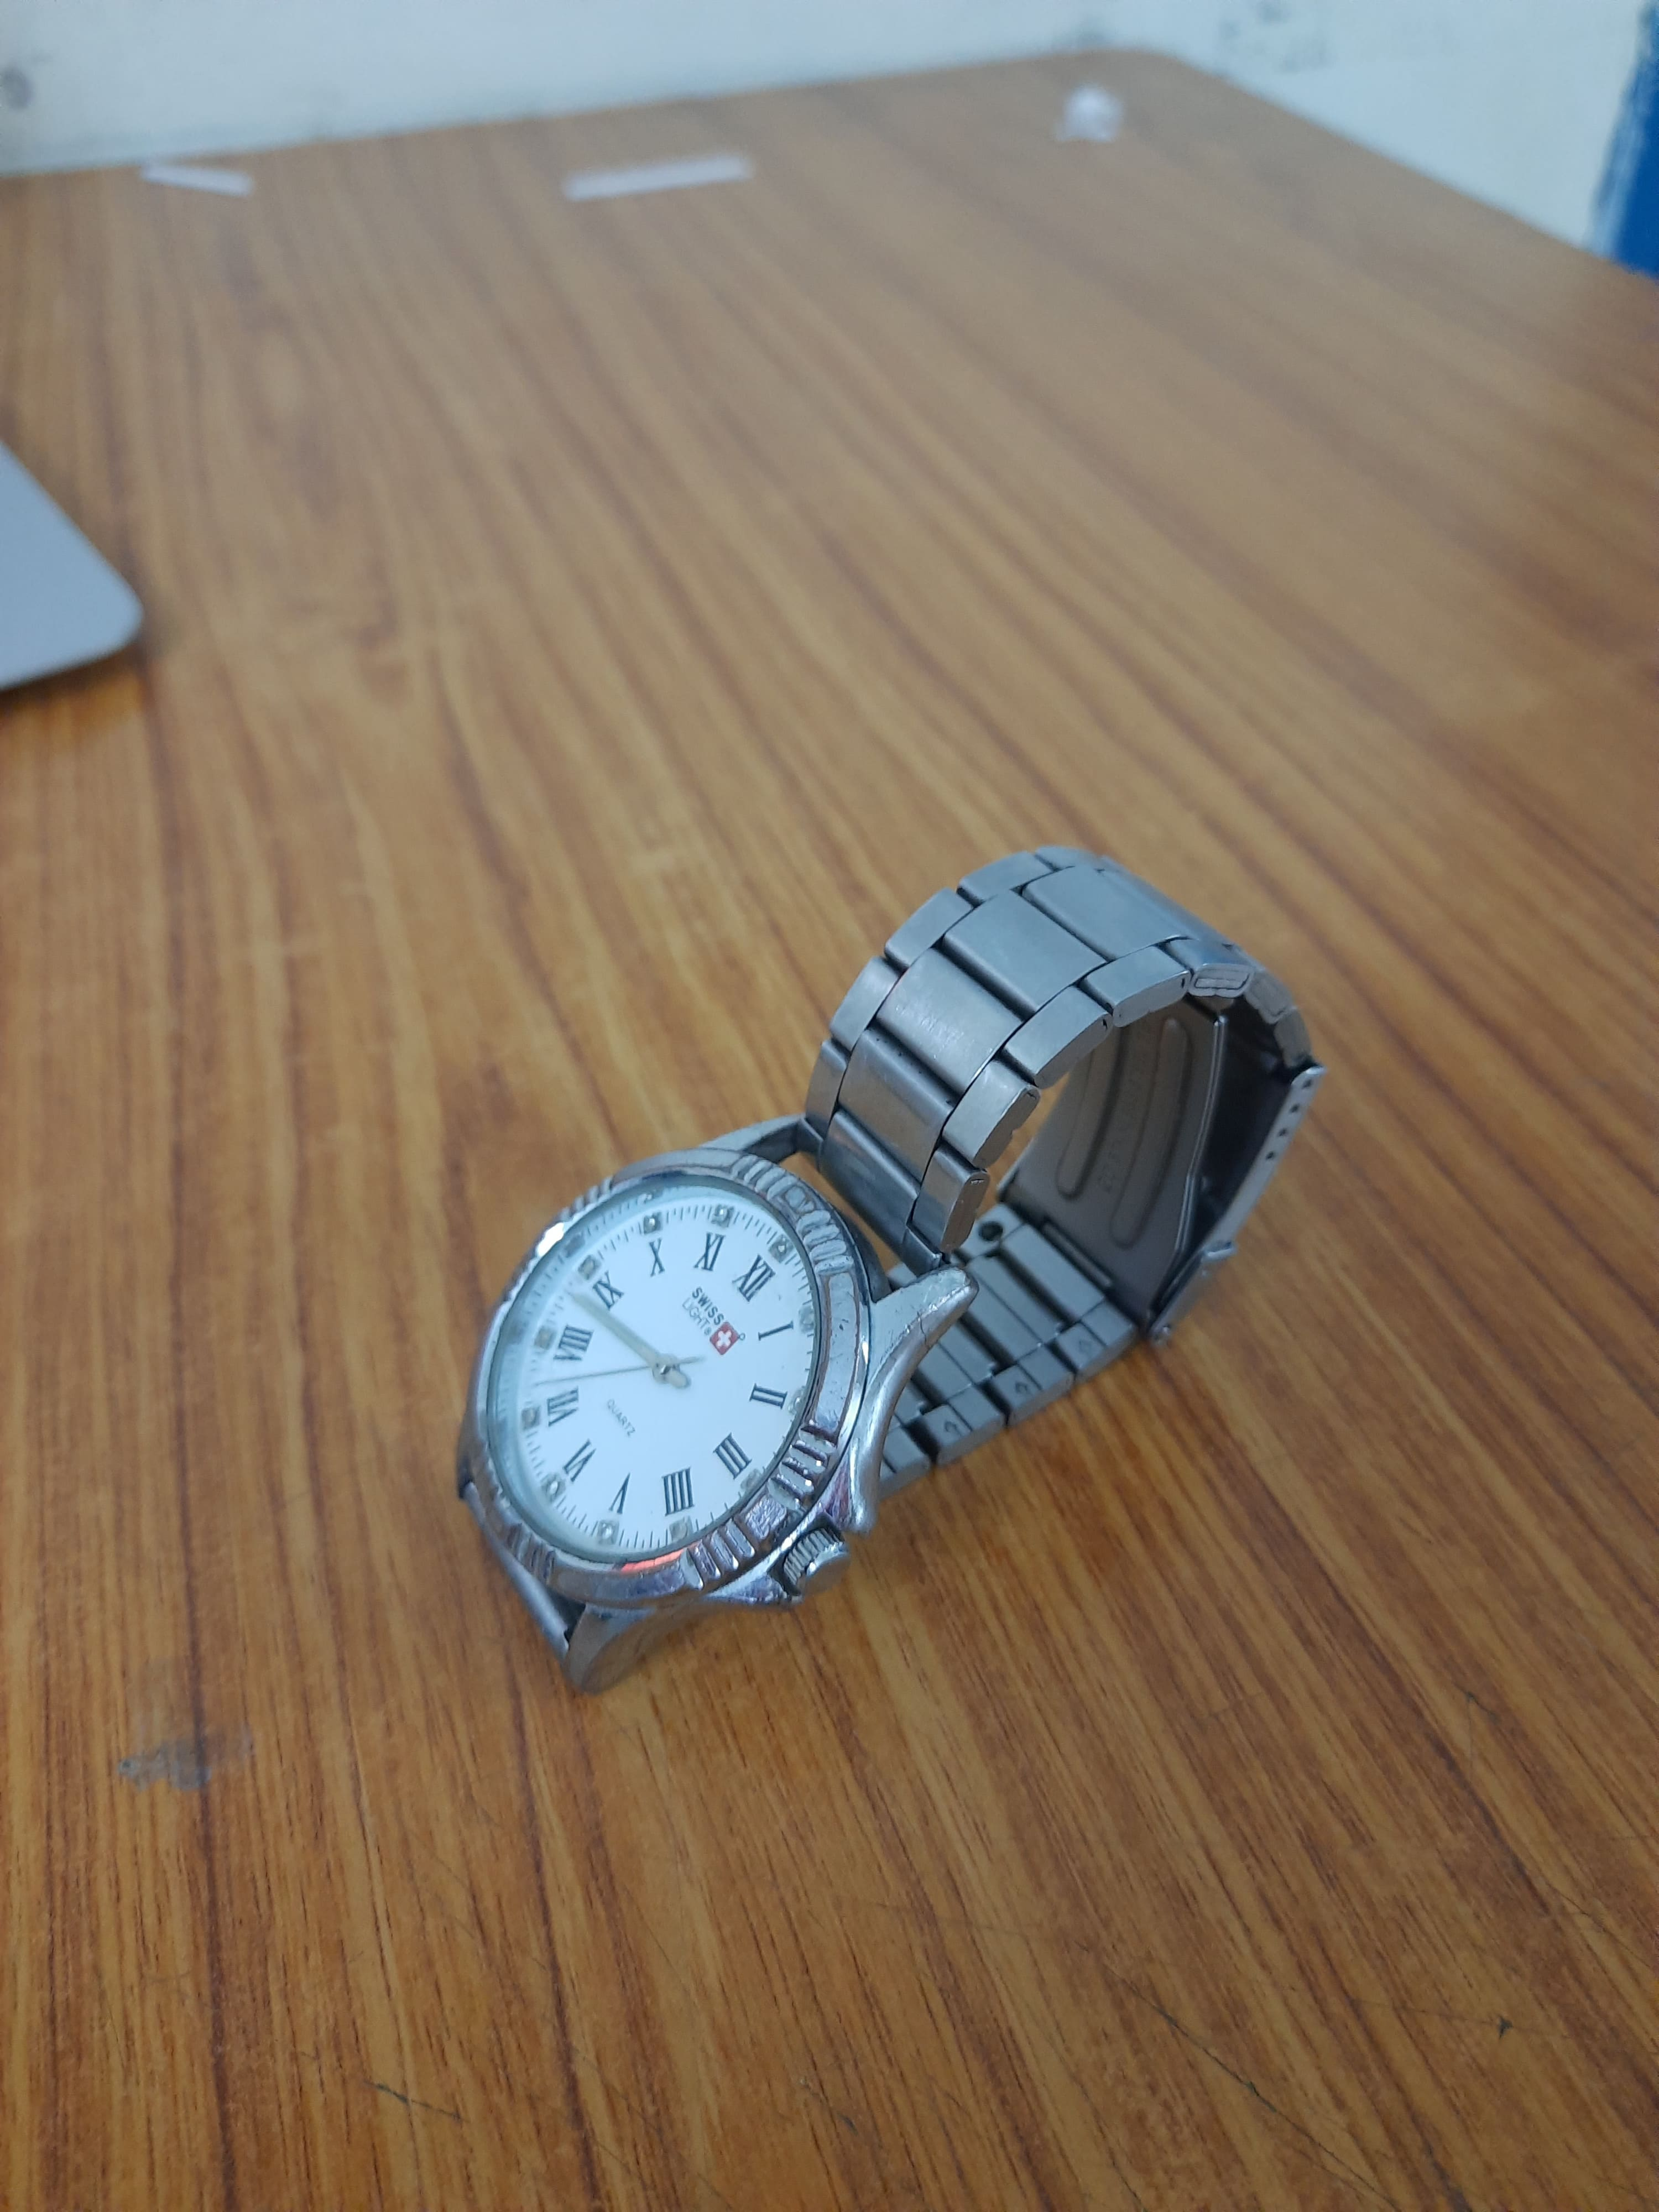Vikash's Watch: (356, 841, 1340, 1714)
